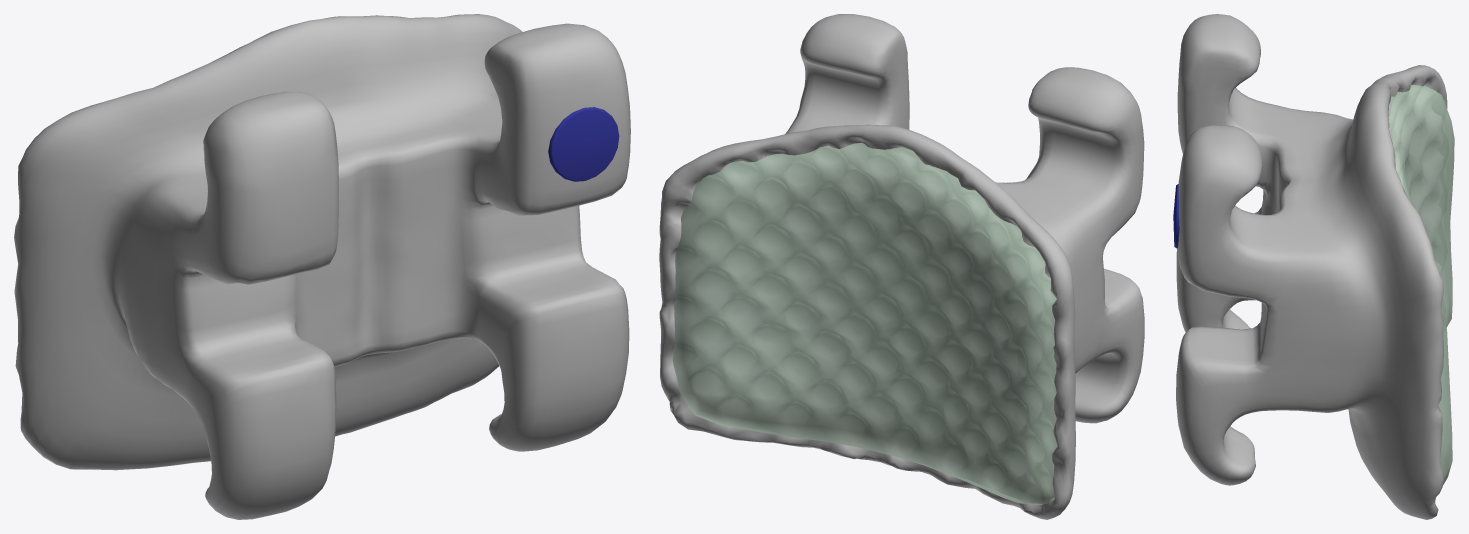
The model's file is JaredBracket.fbx.
3 views of the same model, side by side, from view 1: azimuth 30°, elevation 25°; view 2: azimuth 150°, elevation 25°; view 3: azimuth 270°, elevation 25° (orthographic). The views are drawn at different scales.
Parts seen in each view (by area): view 1: UL1_Gated, Dot_UL1; view 2: UL1_Gated, Adhesive_Pad:Gooey_Adhesive_Pad; view 3: UL1_Gated, Adhesive_Pad:Gooey_Adhesive_Pad, Dot_UL1.
Boxes of the visible parts, box(x1,y1,x2,y2) form: UL1_Gated: box(14, 14, 630, 519); Dot_UL1: box(548, 107, 619, 181); UL1_Gated: box(659, 14, 1144, 519); Adhesive_Pad:Gooey_Adhesive_Pad: box(672, 143, 1057, 504); UL1_Gated: box(1176, 14, 1447, 519); Adhesive_Pad:Gooey_Adhesive_Pad: box(1388, 85, 1454, 507); Dot_UL1: box(1173, 184, 1179, 248).
Bounding box in the file's own units: 2 × 1.65 × 1.16.
